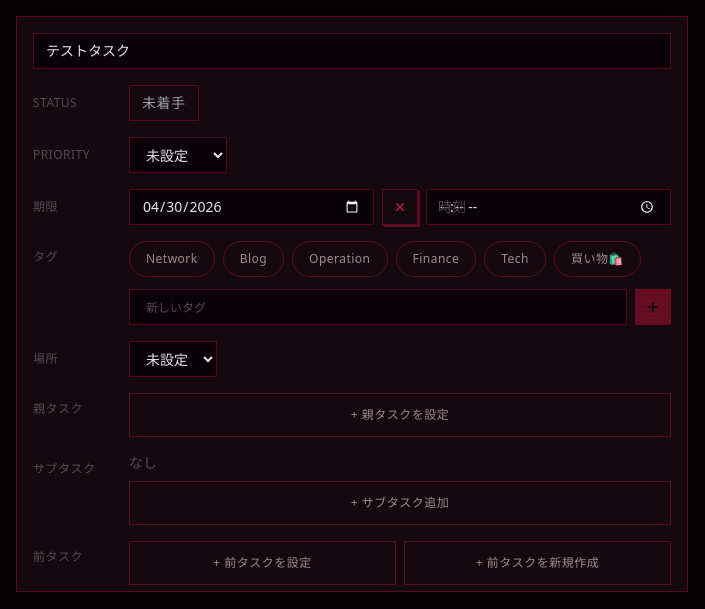
Test case: TaskDetail フィールド変更 › 5 分刻みでない時刻入力は最寄りの 5 分にスナップして保存される
Type "18:33" into the time field named "期限の時刻" at (548, 207), box top-left (426, 189), bottom-right (671, 225)
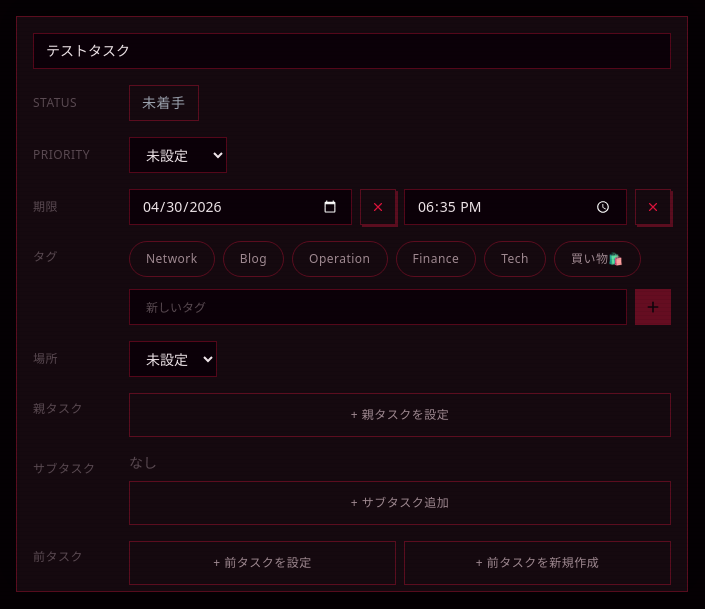
Expected: the time field named "期限の時刻" holds "18:35", top-left (404, 189), bottom-right (627, 225)
